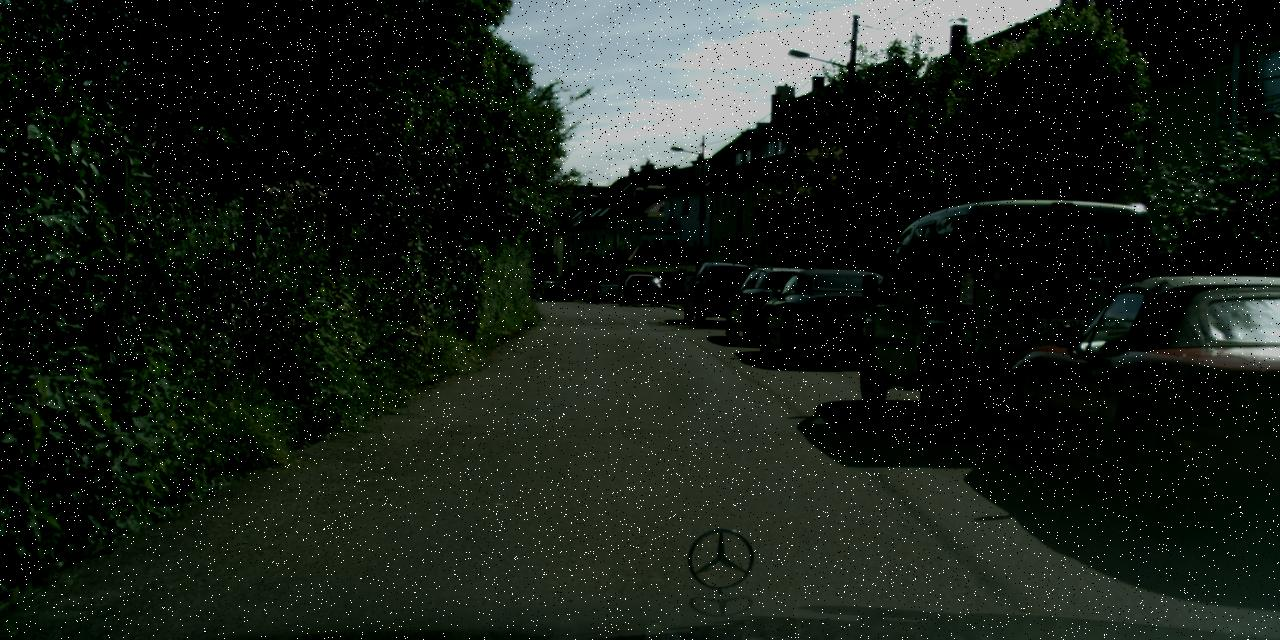ped: (672, 267, 686, 305)
